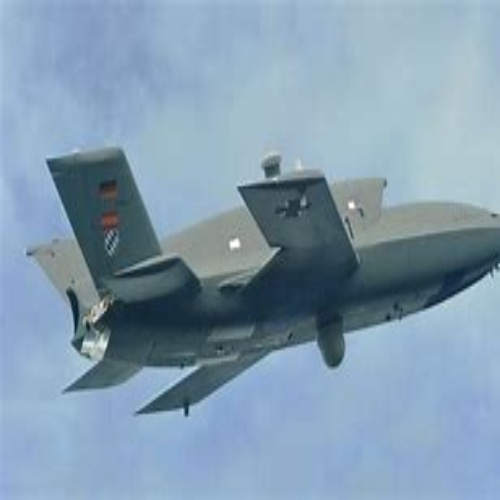uav: (33, 146, 500, 416)
